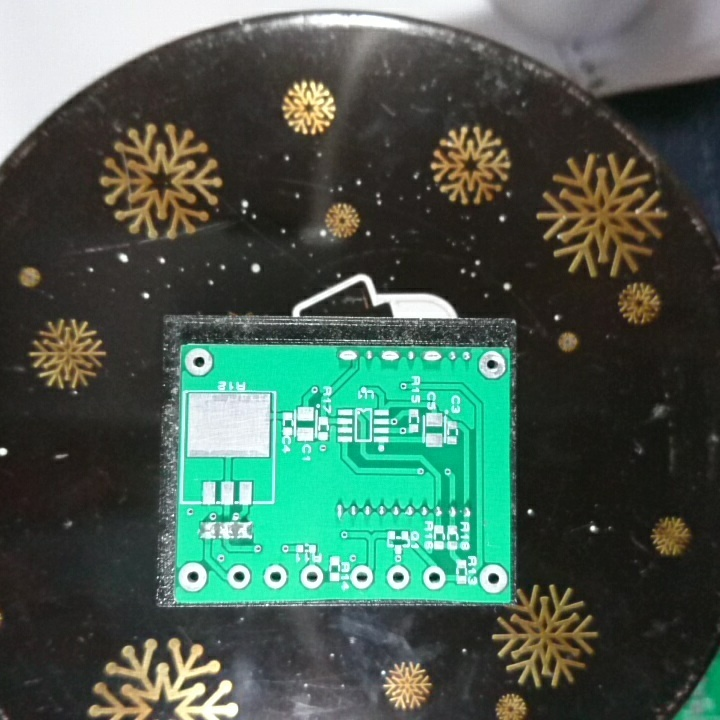F: (182, 344, 217, 378), (477, 561, 510, 595), (176, 560, 208, 594), (475, 349, 508, 380), (224, 563, 254, 591), (261, 562, 289, 592), (420, 563, 448, 593), (348, 563, 376, 591), (384, 563, 412, 590), (299, 563, 325, 591)
P: (334, 346, 360, 365), (419, 348, 445, 366), (378, 346, 402, 364)
